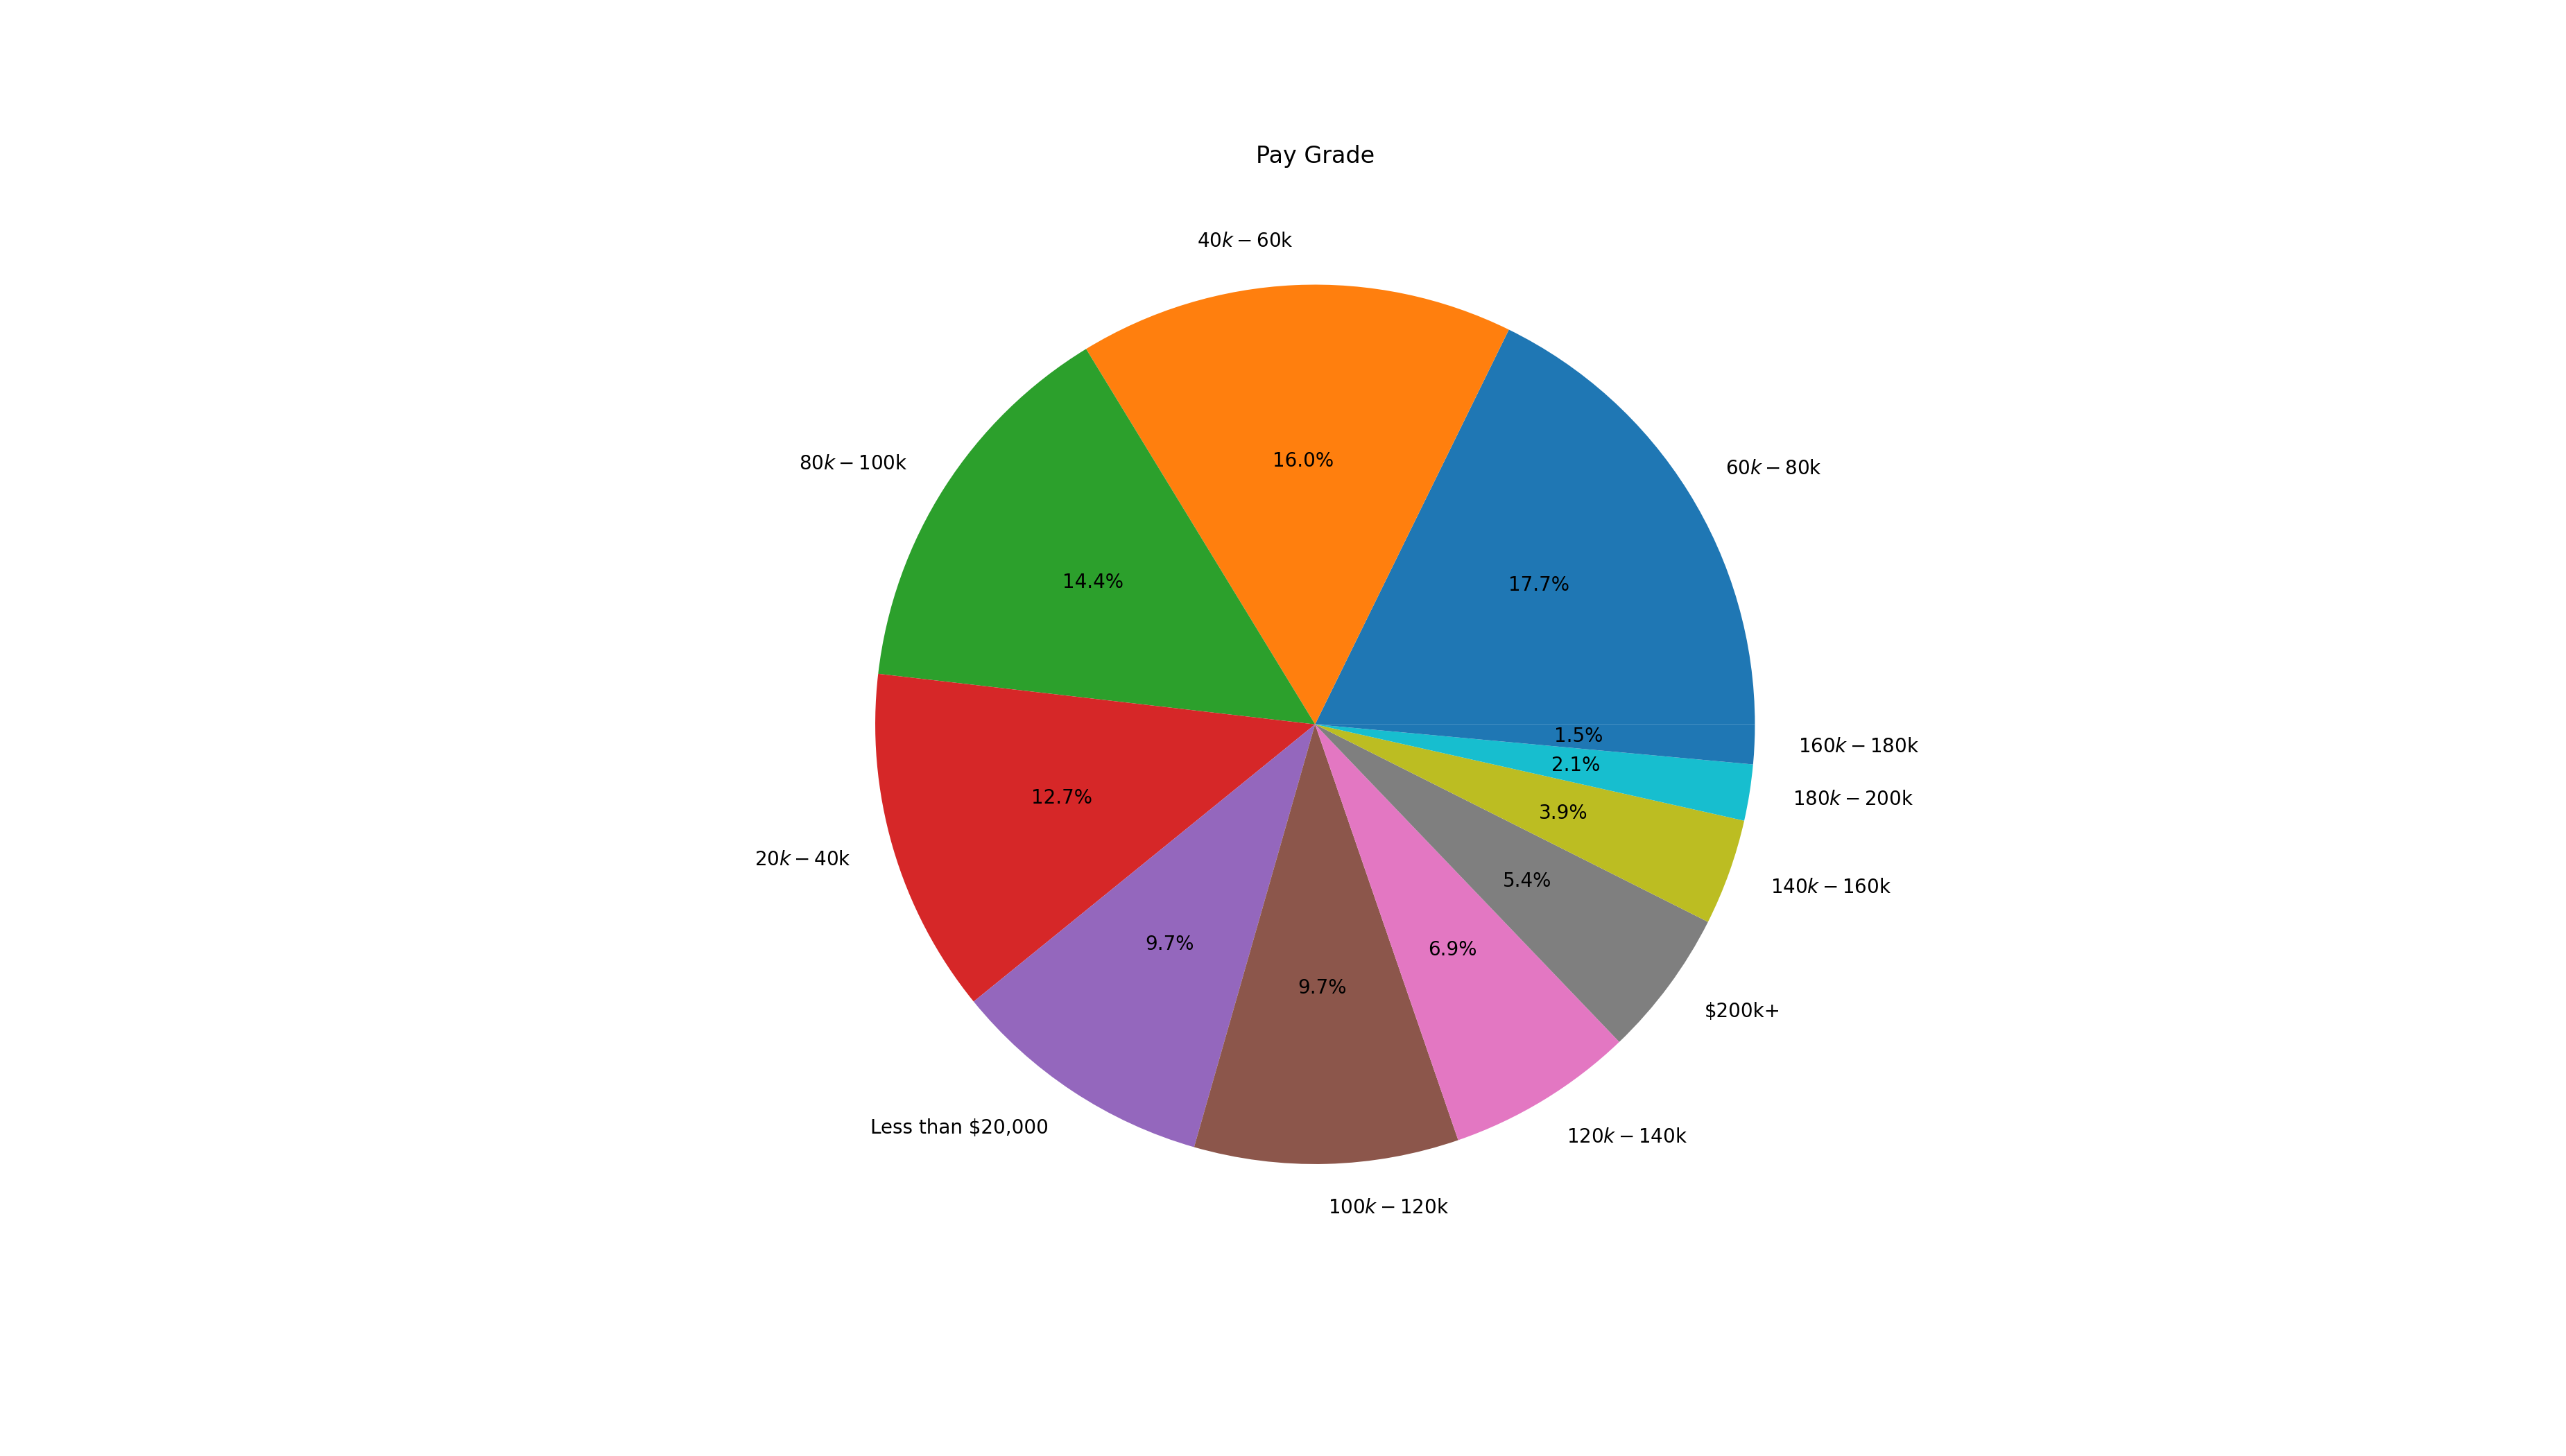

The page's visual inventory and layout, read from the dashboard file:
{"tool":"tableau","page":{"name":"Dashboard 1","canvas":[1000,800],"ordinal":0},"visuals":[{"type":"worksheet","title":"Sheet 2","mark":"Automatic","cols":["RoleMultichoice"],"box":[8,8,824,784]},{"type":"legend","title":"Sheet 2","param":"[federated.065012m12chdym10juw4k0op4jla].[none:PayAnnual:nk]","box":[832,8,160,261]}]}

Visuals, with their boxes on the page's 1000x800 design canvas (x1, y1, x2, y2). These are canvas units, not pixel positions in the 2566x1456 screenshot, which may show the page scaled, cropped or inside an application window:
"Sheet 2" worksheet: [x1=8, y1=8, x2=832, y2=792]
"Sheet 2" legend: [x1=832, y1=8, x2=992, y2=269]
